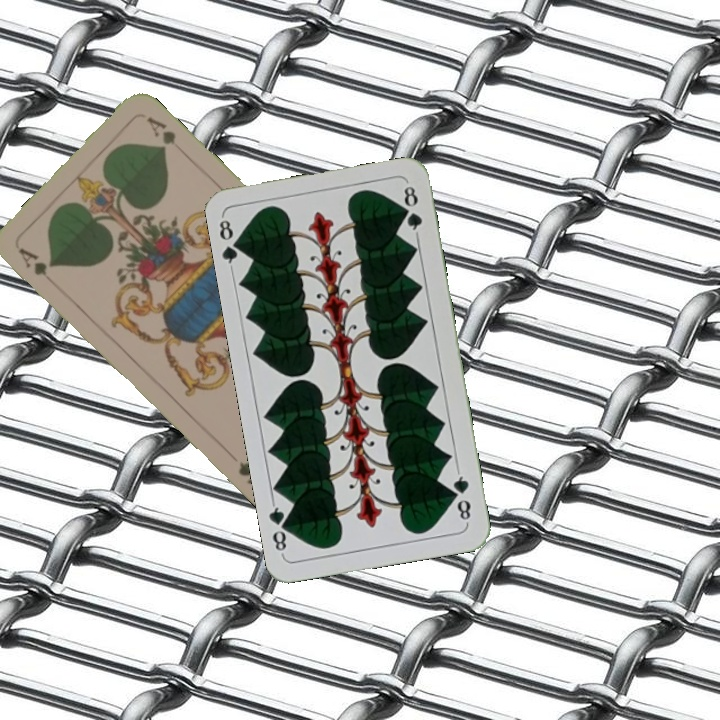G8: (215, 213, 246, 272), (448, 467, 474, 526)
GA: (15, 244, 61, 291)
